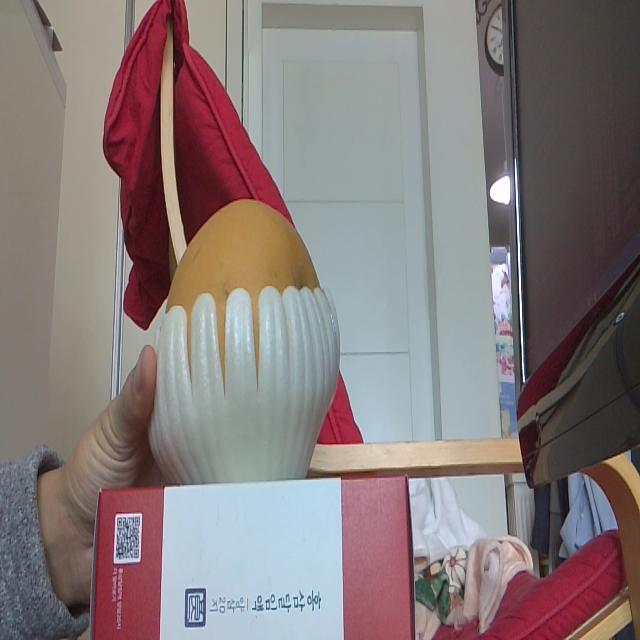pear: (151, 200, 338, 477)
